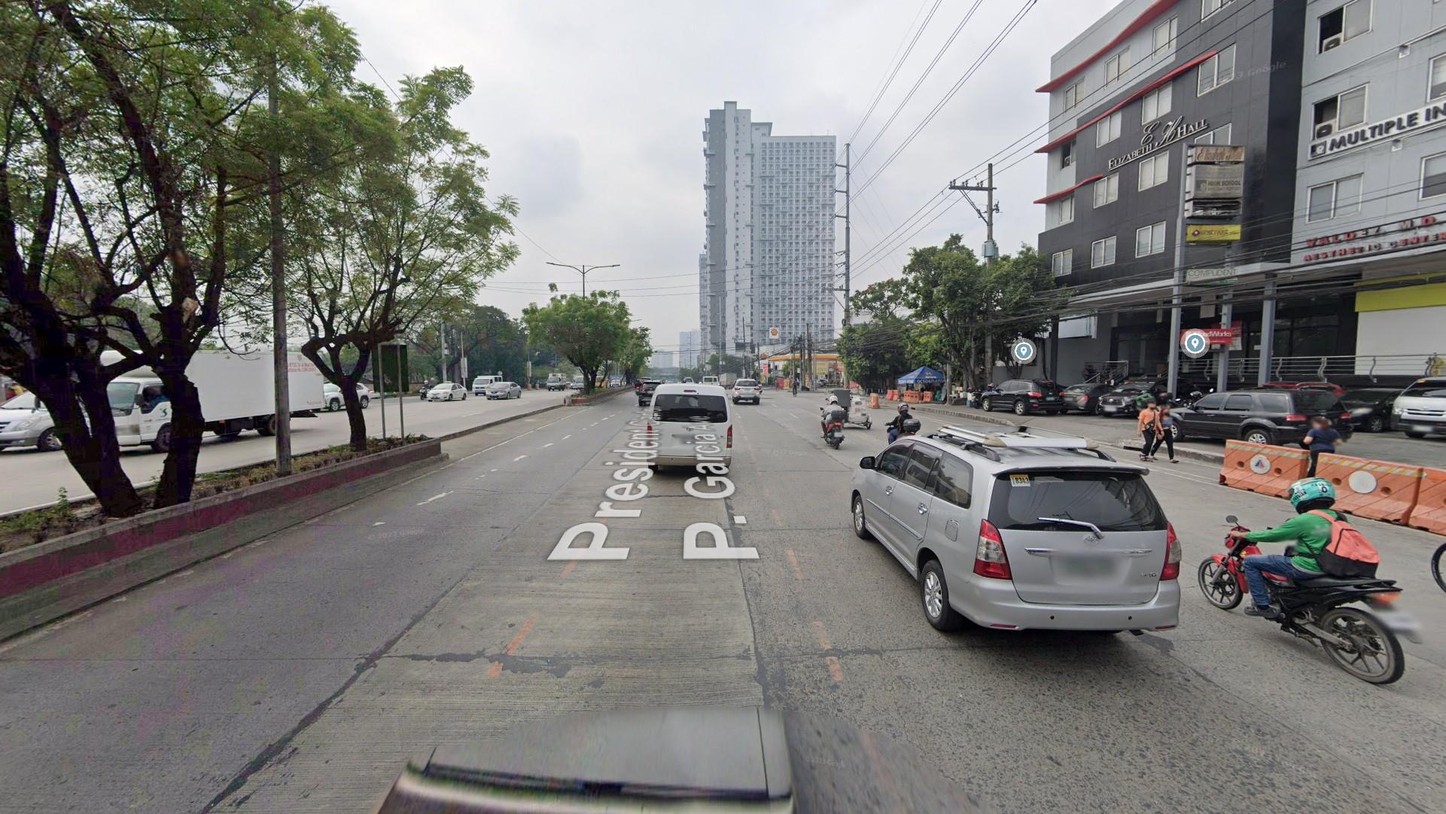cyclist: (790, 379, 799, 398)
pedestrian: (1303, 415, 1343, 499), (1150, 406, 1180, 464), (1136, 399, 1163, 462), (774, 379, 780, 393)
